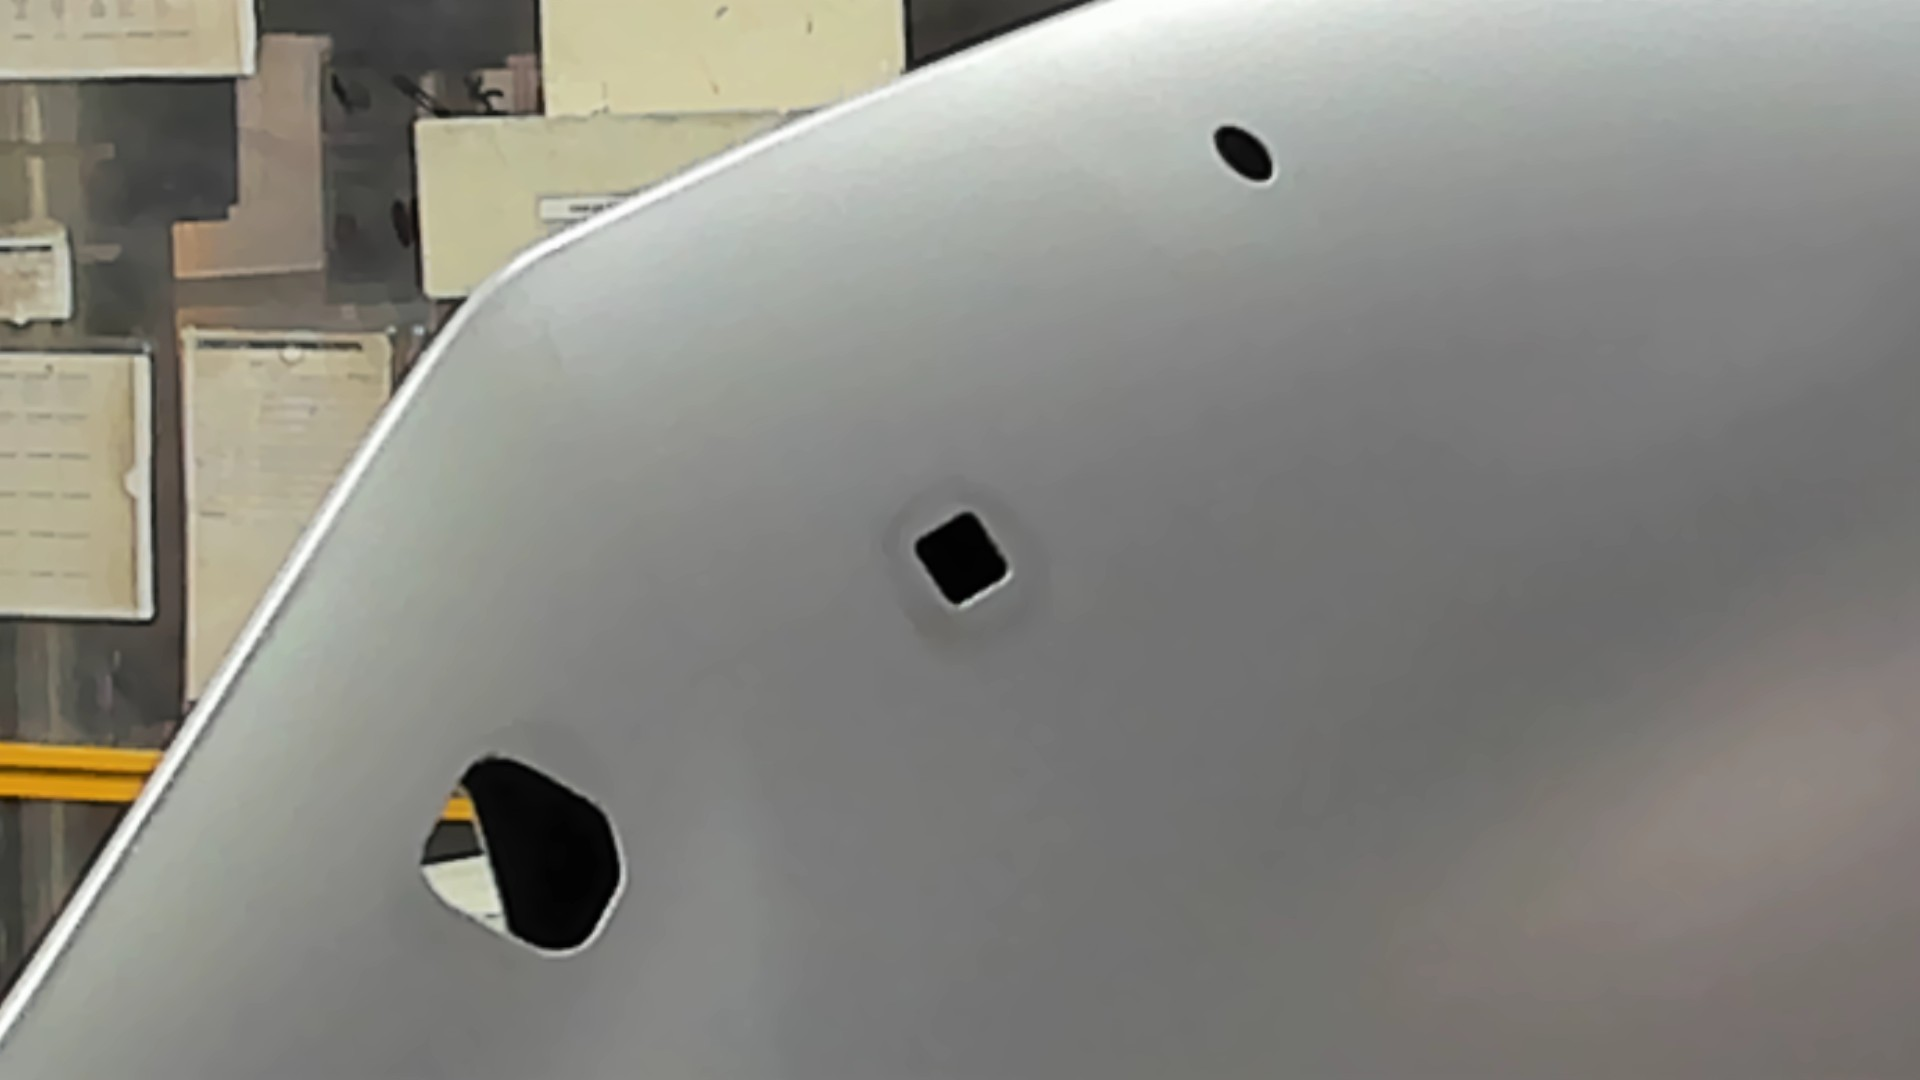chico: (1207, 119, 1278, 189)
grande: (411, 752, 632, 964)
mediano: (909, 502, 1017, 612)
